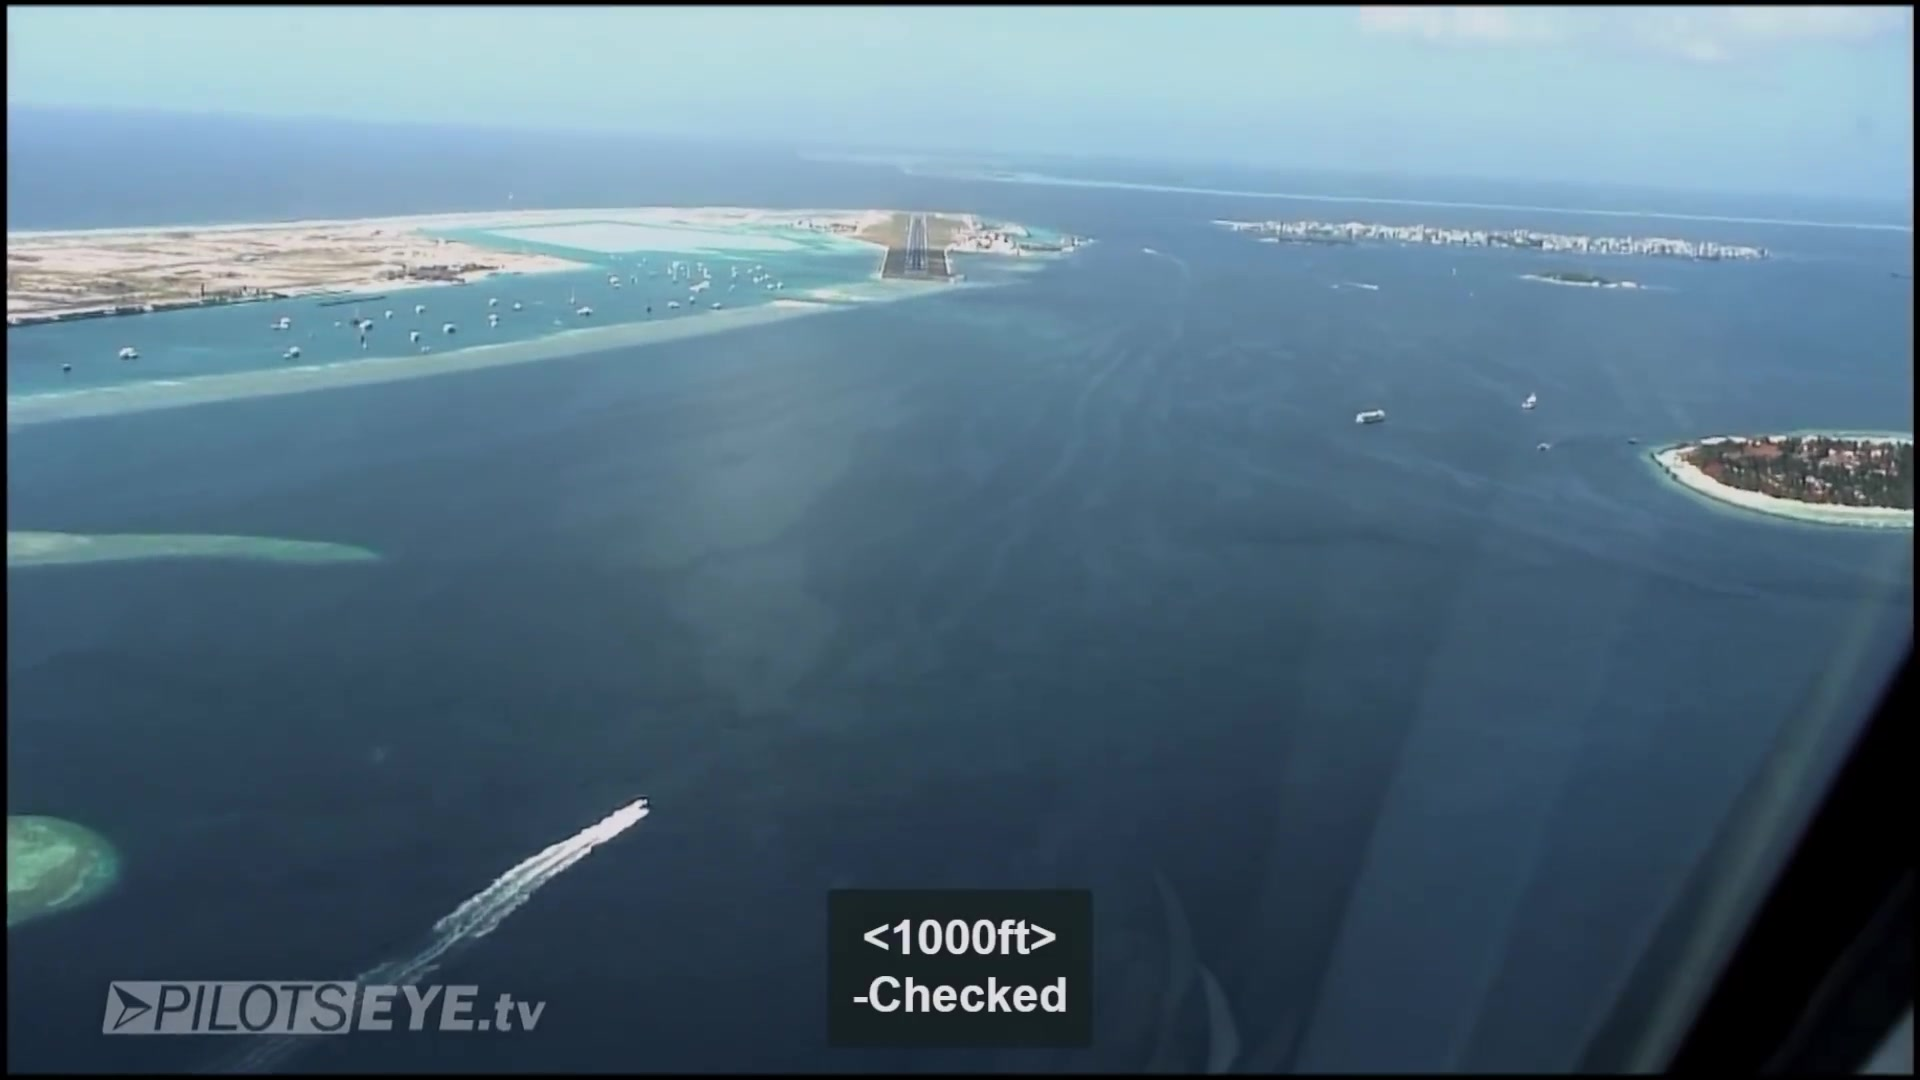runway: (901, 210, 928, 277)
